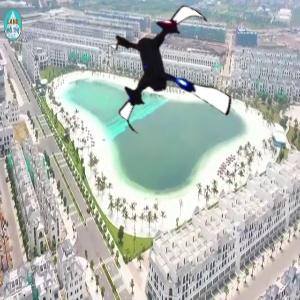drone: (99, 1, 243, 145)
